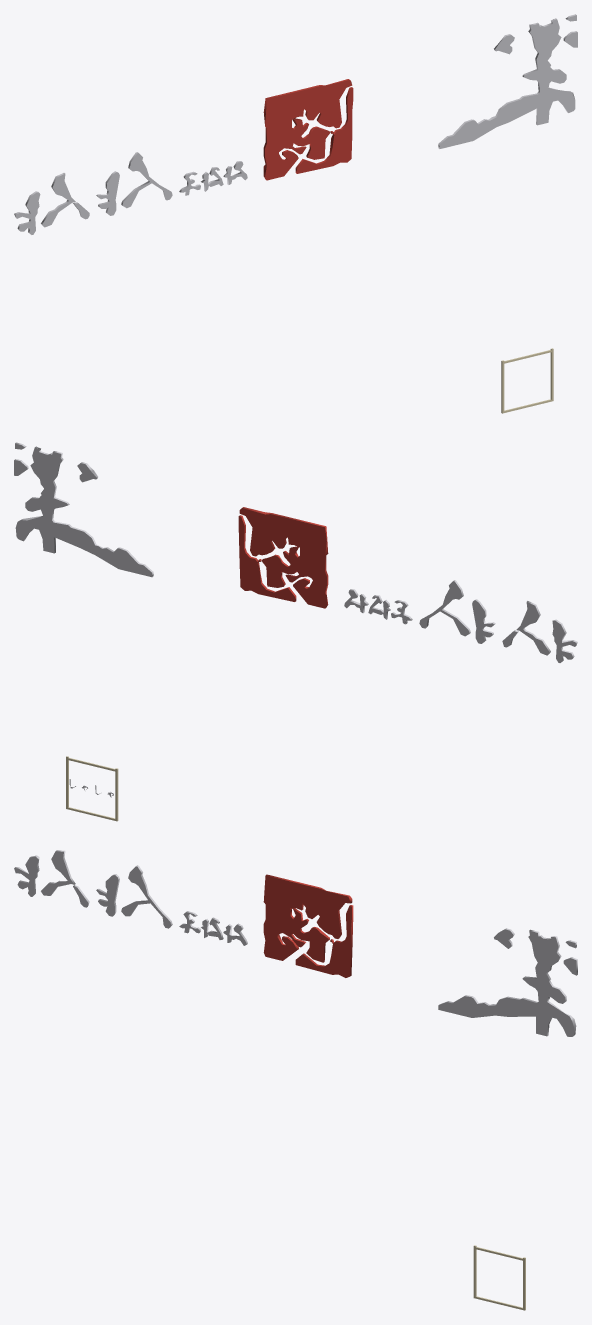
Rendered from brand.glb.
3 renders of one model, top to bottom at view 1: azimuth 30°, elevation 25°; view 2: azimuth 150°, elevation 25°; view 3: azimuth 330°, elevation 25°, orthographic.
Visible parts, largest first — view 1: Waraku_brand; view 2: Waraku_brand; view 3: Waraku_brand.
Boxes of the visible parts, x1,y1,x2,y2 form: Waraku_brand: [14, 14, 577, 413]; Waraku_brand: [14, 442, 577, 821]; Waraku_brand: [14, 850, 577, 1310].
Bounding box in the file's own units: 1.64 × 1.03 × 0.0755.
